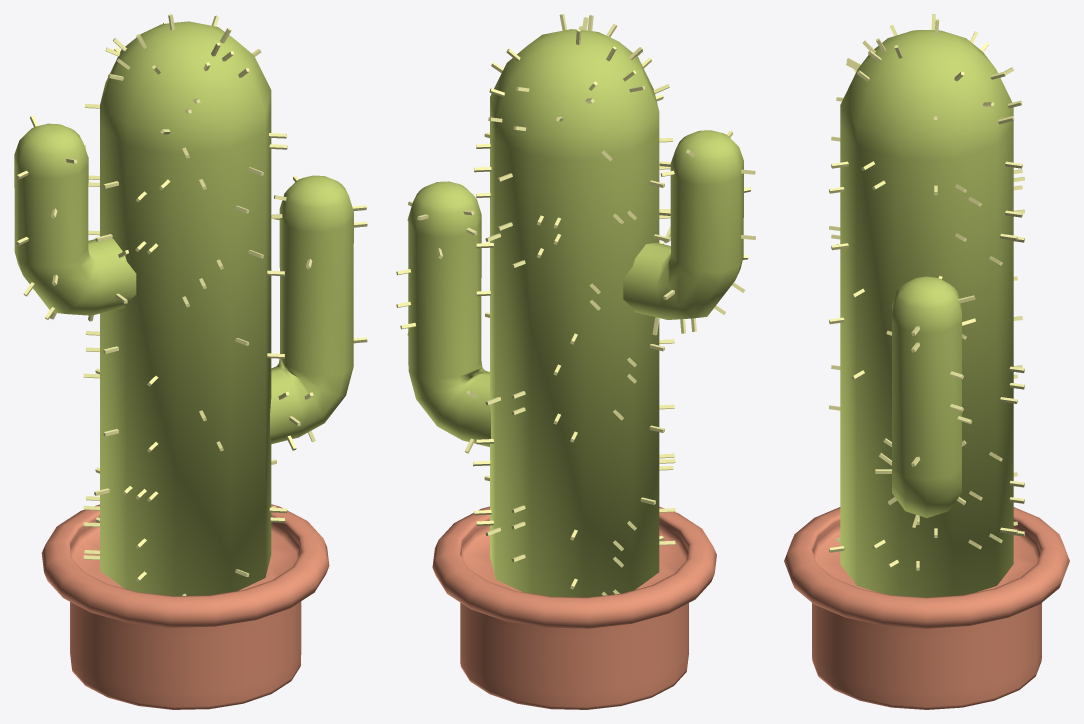
Rendered from cactus.fbx.
The picture shows the model from 3 angles, left to right: view 1: azimuth 30°, elevation 25°; view 2: azimuth 150°, elevation 25°; view 3: azimuth 270°, elevation 25°; orthographic projection.
Visible parts, largest first — view 1: Cactus, Cylinder; view 2: Cactus, Cylinder; view 3: Cactus, Cylinder.
Boxes of the visible parts, left/top/right/bottom form: Cactus: left=14, top=14, right=367, bottom=596; Cylinder: left=41, top=504, right=329, bottom=709; Cactus: left=396, top=14, right=755, bottom=597; Cylinder: left=432, top=506, right=716, bottom=709; Cactus: left=829, top=14, right=1024, bottom=597; Cylinder: left=784, top=507, right=1069, bottom=709.
Bounding box in the file's own units: 326 × 574 × 233.
